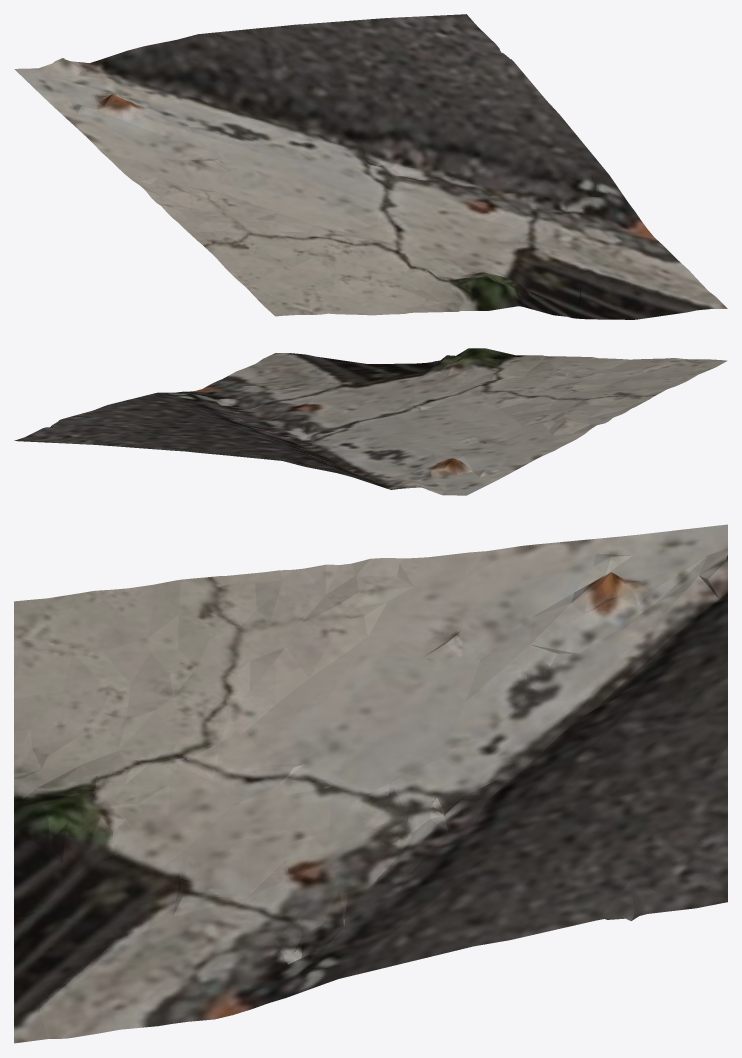
3 renders of one model, top to bottom at view 1: azimuth 30°, elevation 25°; view 2: azimuth 150°, elevation 25°; view 3: azimuth 270°, elevation 25°, orthographic. The views are drawn at different scales.
Bounding box in the file's own units: 0.8374 × 0.2811 × 0.8374.
Materials: 3 (3 with a texture image).
